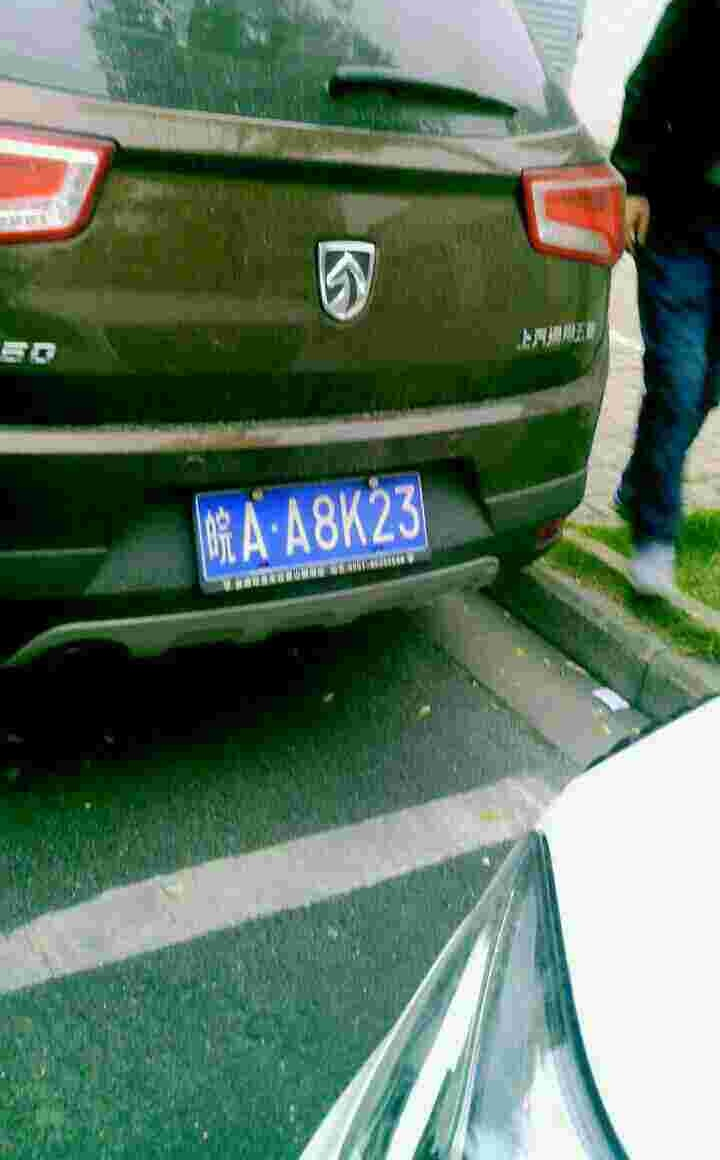license_plate: (209, 480, 426, 583)
